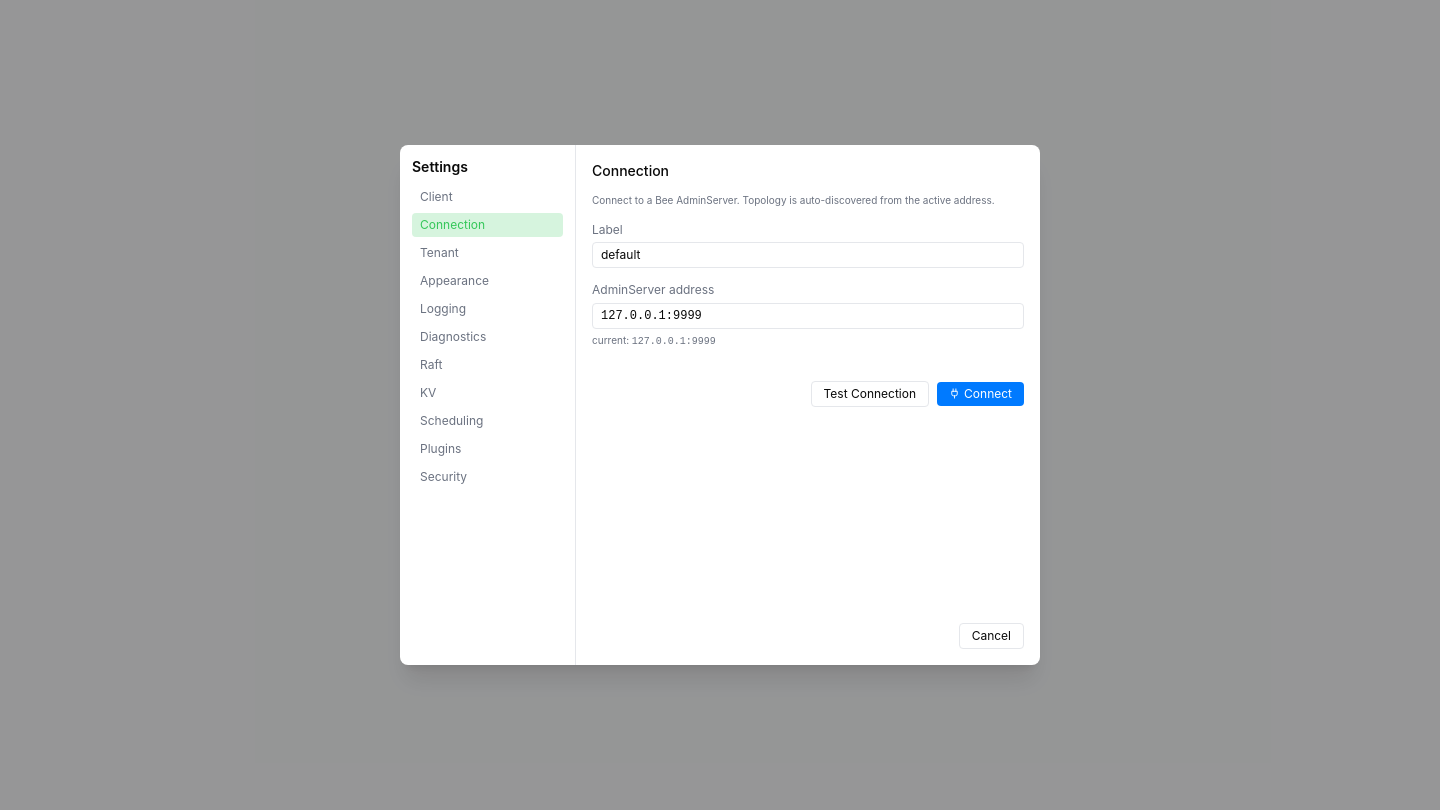
<SettingsModal> Plugins section › uses the last-scanned directory persisted in client_settings when available
Click the button "Plugins" at coordinates (488, 449), box [412,437,563,461]
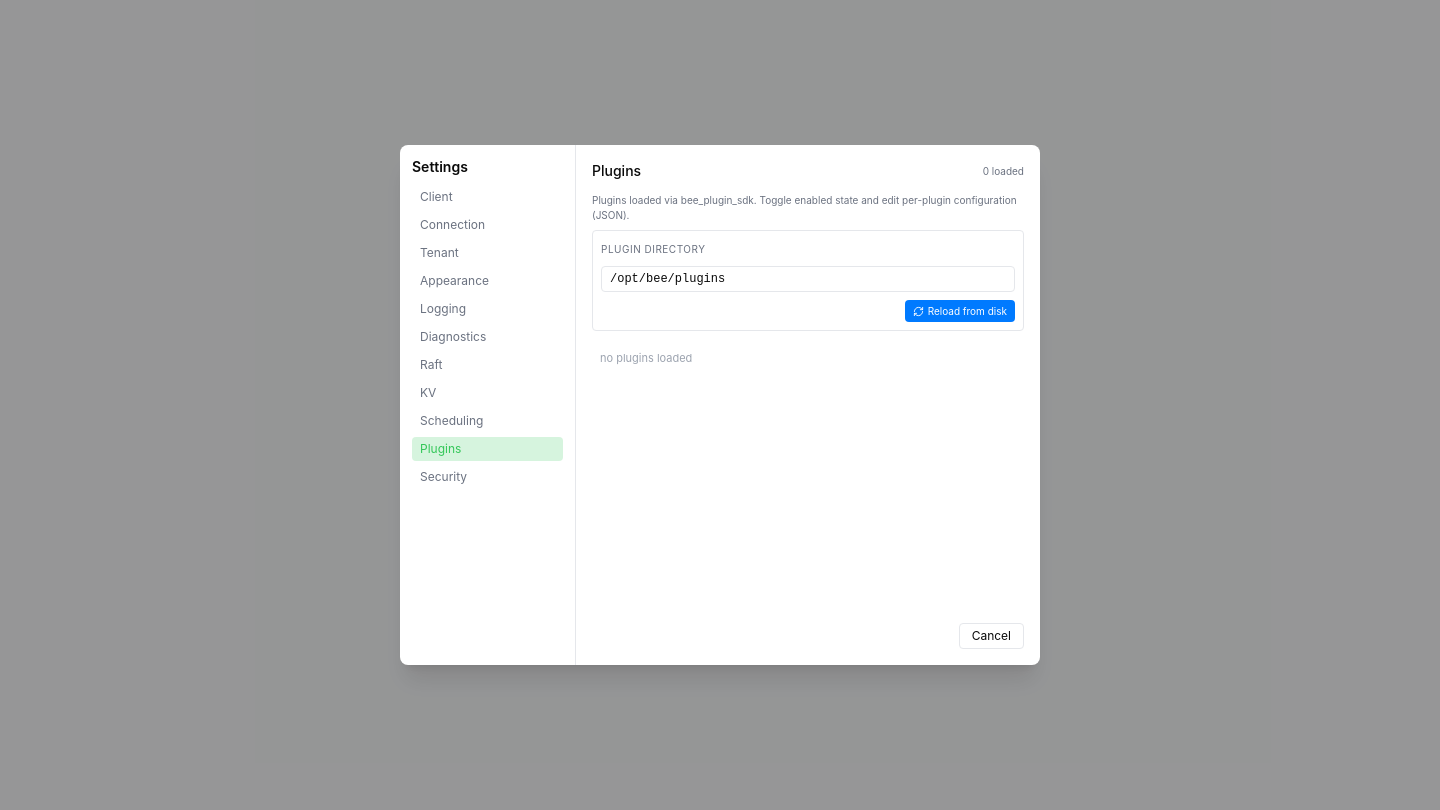
Expected: the field with test id "plugin-dir-input" holds "/opt/bee/plugins", [601,266,1015,292]
